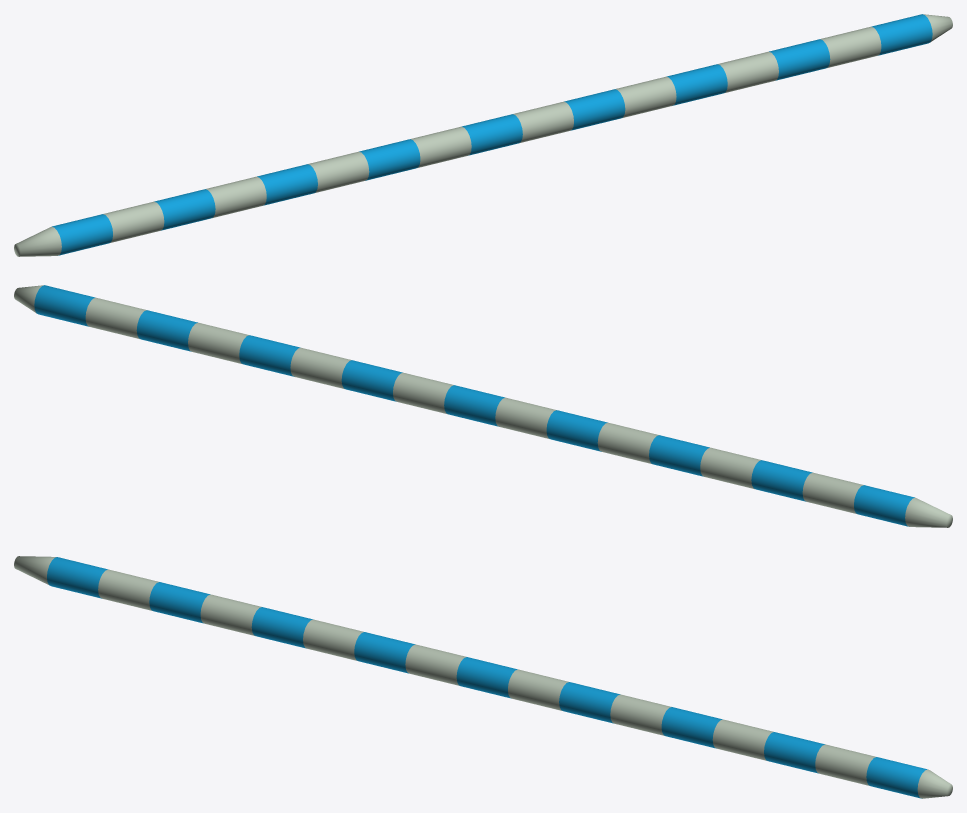
The model's file is 3D_CandySnake.FBX.
The picture shows the model from 3 angles, top to bottom: view 1: azimuth 30°, elevation 25°; view 2: azimuth 150°, elevation 25°; view 3: azimuth 330°, elevation 25°; orthographic projection.
Visible parts, largest first — view 1: 3D_CandySnake; view 2: 3D_CandySnake; view 3: 3D_CandySnake.
Boxes of the visible parts, bbox=[...] form: 3D_CandySnake: bbox=[14, 14, 952, 256]; 3D_CandySnake: bbox=[14, 285, 952, 527]; 3D_CandySnake: bbox=[14, 556, 952, 798].
Size of the model in its own units: 589 by 16.48 by 16.48.
